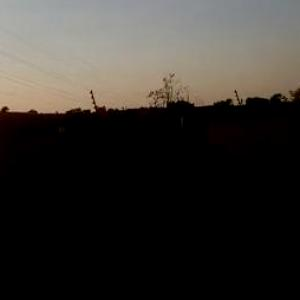follow: (160, 95, 246, 298)
